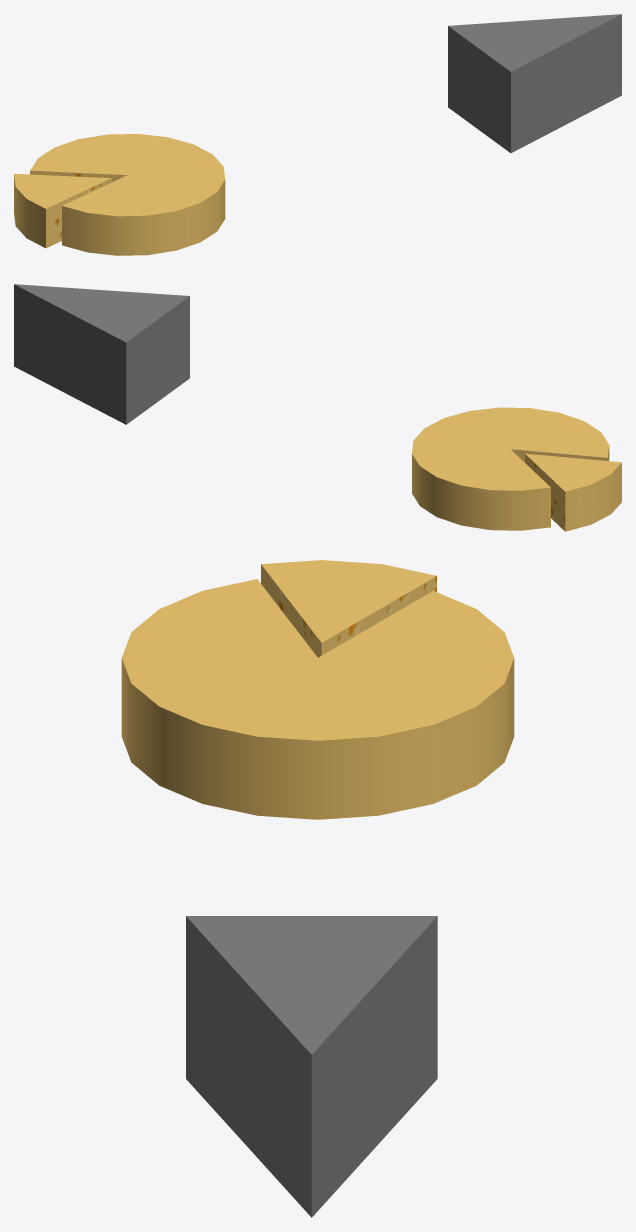
Rendered from Cheese.obj.
3 renders of one model, top to bottom at view 1: azimuth 30°, elevation 25°; view 2: azimuth 150°, elevation 25°; view 3: azimuth 270°, elevation 25°, orthographic. The views are drawn at different scales.
Visible parts, largest first — view 1: pCylinder2, pPrism1; view 2: pCylinder2, pPrism1; view 3: pCylinder2, pPrism1.
Boxes of the visible parts, <box> form: pCylinder2: <box>14,134,225,255</box>; pPrism1: <box>448,14,621,152</box>; pCylinder2: <box>412,407,621,531</box>; pPrism1: <box>14,284,189,424</box>; pCylinder2: <box>121,560,514,819</box>; pPrism1: <box>186,916,437,1217</box>.
Bounding box in the file's own units: 6.98 × 0.9159 × 2.
3 materials, 2 textured.
